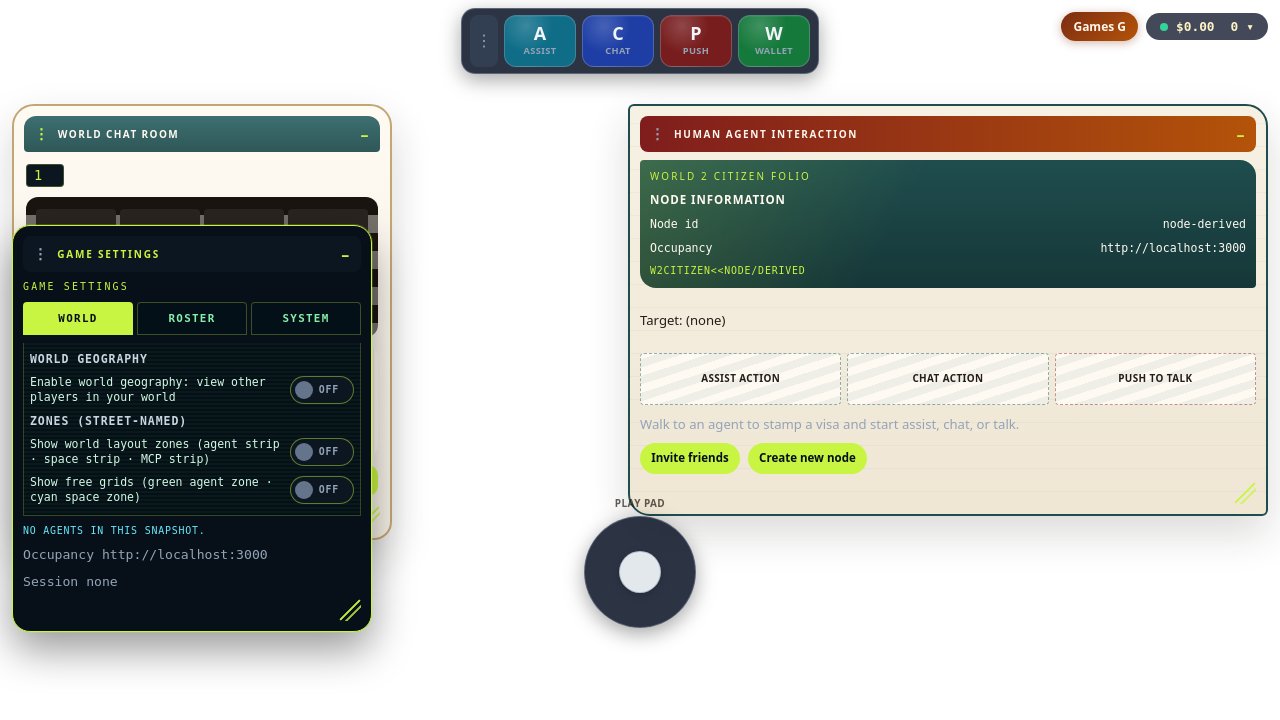
Test: Game shell › shows P2A settings and an intercom address preview on game settings
Expected: the text "The street is holding its breath." is shown, [52,380,243,404]
Expected: the button "Reply" is shown, [52,410,116,437]
Click the tab "system": (306, 319) [251,302,361,335]
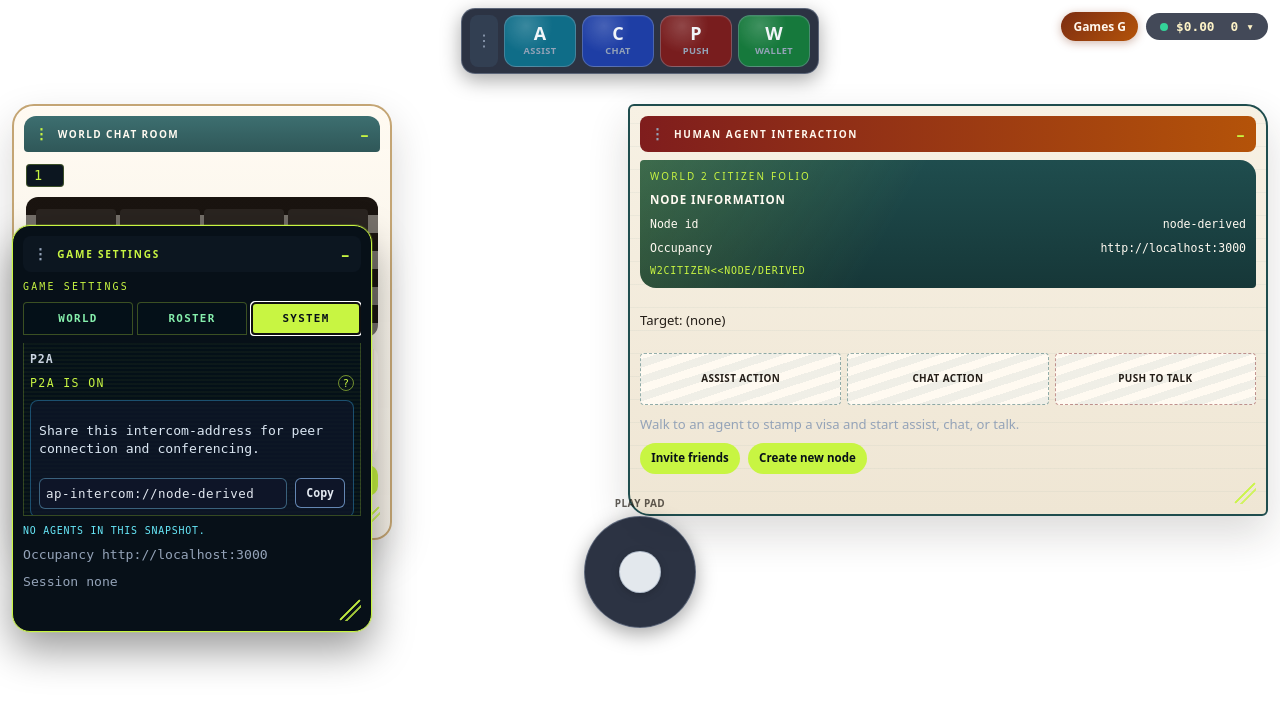
Expected: the text "Share this intercom-address" is shown, [39,423,323,456]
Expected: the field showing "ap-intercom://node-derived" is shown, [39,478,287,509]
Expected: the button "Copy" is enabled, [295,478,345,508]
